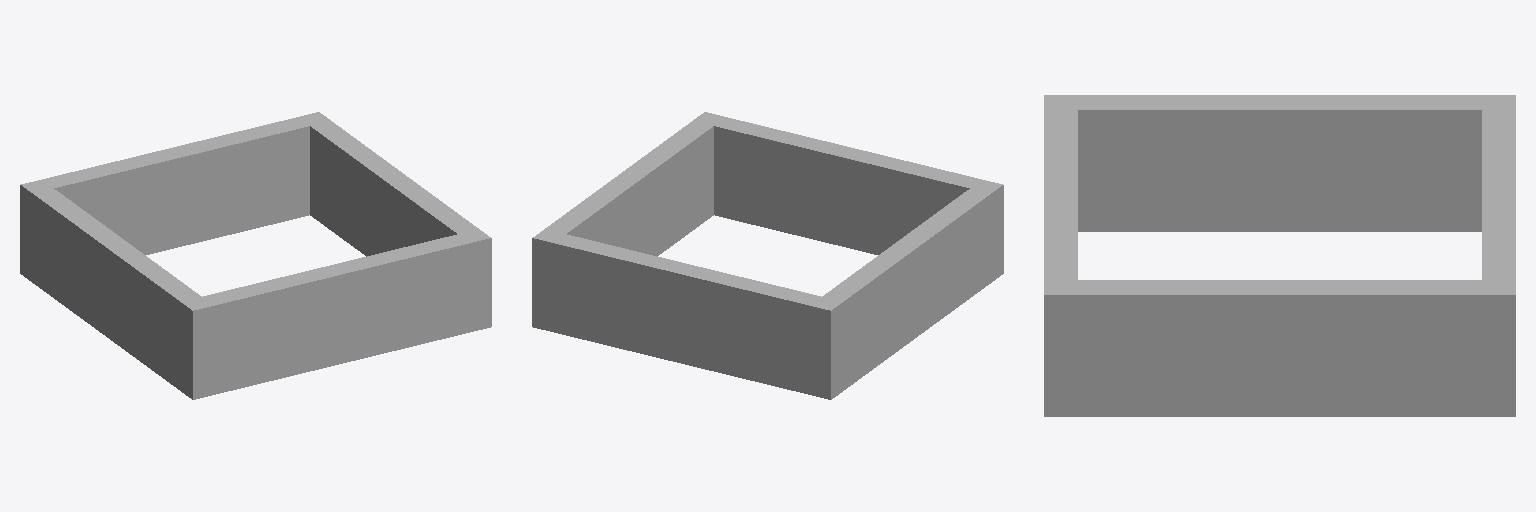
URDF robot description (world):
<robot
  name="world">
  <link
    name="base_link">
    <inertial>
      <origin
        xyz="1.80411241501588E-16 0 0.05"
        rpy="0 0 0" />
      <mass
        value="3.25" />
      <inertia
        ixx="0.0602604166666666"
        ixy="4.658364984265E-18"
        ixz="-3.69499488514849E-18"
        iyy="0.0602604166666666"
        iyz="1.40946282423116E-18"
        izz="0.115104166666667" />
    </inertial>
    <visual>
      <origin
        xyz="0 0 0"
        rpy="0 0 0" />
      <geometry>
        <mesh
          filename="package://world_description/meshes/base_link.STL" />
      </geometry>
      <material
        name="">
        <color
          rgba="0.752941176470588 0.752941176470588 0.752941176470588 1" />
      </material>
    </visual>
    <collision>
      <origin
        xyz="0 0 0"
        rpy="0 0 0" />
      <geometry>
        <mesh
          filename="package://world_description/meshes/base_link.STL" />
      </geometry>
    </collision>
  </link>
</robot>

--- Render facts (derived) ---
Views: 3 orthographic renders of the robot side by side, from view 1: azimuth 30°, elevation 25°; view 2: azimuth 150°, elevation 25°; view 3: azimuth 270°, elevation 25°.
Model world with 1 links and 0 joints (none), rooted at base_link, posed every joint at zero.
Links seen in each view (by area): view 1: base_link; view 2: base_link; view 3: base_link.
Link boxes in pixels (x1,y1,x2,y2): base_link: [20, 112, 491, 399]; base_link: [532, 112, 1003, 399]; base_link: [1044, 95, 1515, 416].
Size in the robot's own frame: 0.35 by 0.35 by 0.1 metres.
1 mesh visuals loaded from 1 distinct referenced files (1 binary STL).